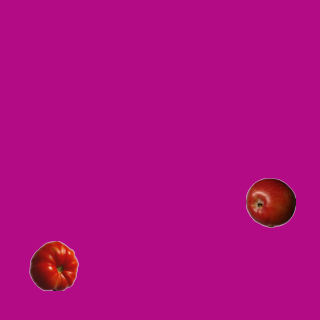Apple Braeburn: (245, 177, 295, 227)
Tomato 3: (28, 240, 78, 290)
